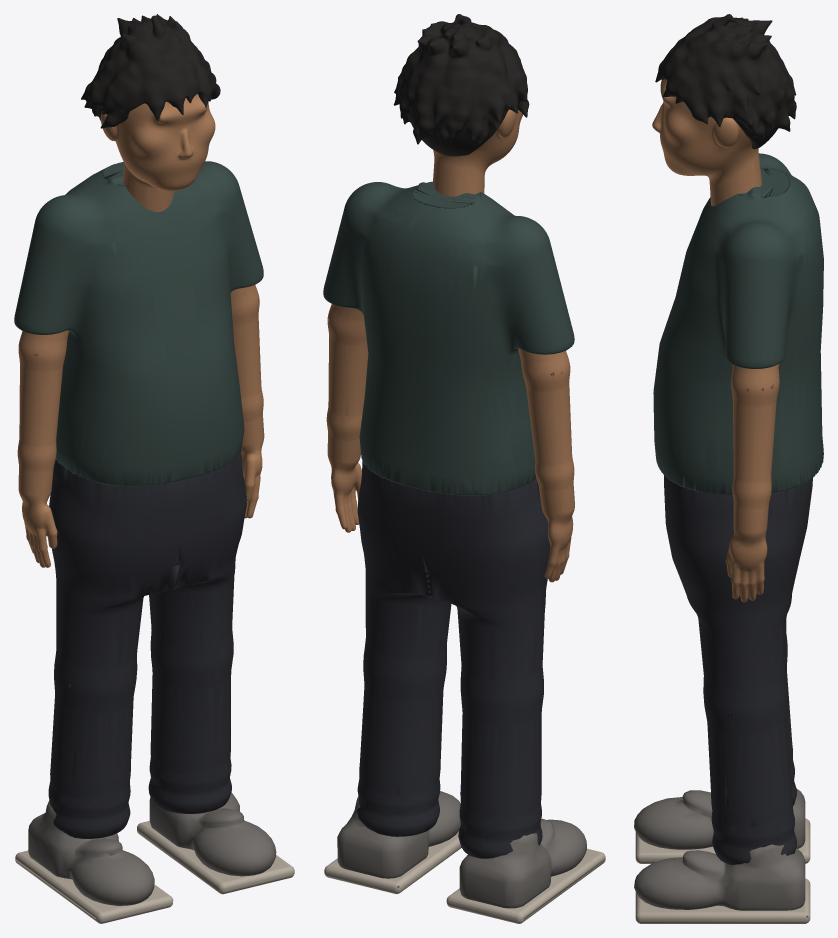
File: nico-v5-clay.glb
3 views of the same model, side by side, from view 1: azimuth 30°, elevation 25°; view 2: azimuth 150°, elevation 25°; view 3: azimuth 270°, elevation 25° (orthographic).
Parts seen in each view (by area): view 1: nico_jeans, nico_shirt, nico_shoes, nico_hair, nico_arm_r, nico_head, nico_soles, nico_arm_l; view 2: nico_jeans, nico_shirt, nico_hair, nico_shoes, nico_arm_r, nico_arm_l, nico_soles, nico_head; view 3: nico_shirt, nico_jeans, nico_shoes, nico_hair, nico_arm_l, nico_head, nico_soles.
Part boxes in pixels (x1,y1,x2,y2): nico_jeans: (48,450,246,838); nico_shirt: (14,161,263,486); nico_shoes: (28,792,276,905); nico_hair: (81,14,220,128); nico_arm_r: (17,330,68,567); nico_head: (100,94,215,212); nico_soles: (15,821,294,923); nico_arm_l: (230,285,264,518); nico_jeans: (356,461,550,858); nico_shirt: (323,181,574,495); nico_hair: (393,14,529,156); nico_shoes: (337,791,586,908); nico_arm_r: (518,348,574,582); nico_arm_l: (326,304,368,532); nico_soles: (324,831,605,923); nico_head: (432,109,523,196); nico_shirt: (653,153,823,495); nico_jeans: (663,474,812,865); nico_shoes: (634,789,805,910); nico_hair: (655,14,796,149); nico_arm_l: (725,364,779,602); nico_head: (652,79,761,206); nico_soles: (635,818,810,923).
Size of the model in its own units: 0.5026 by 1.69 by 0.3376.
